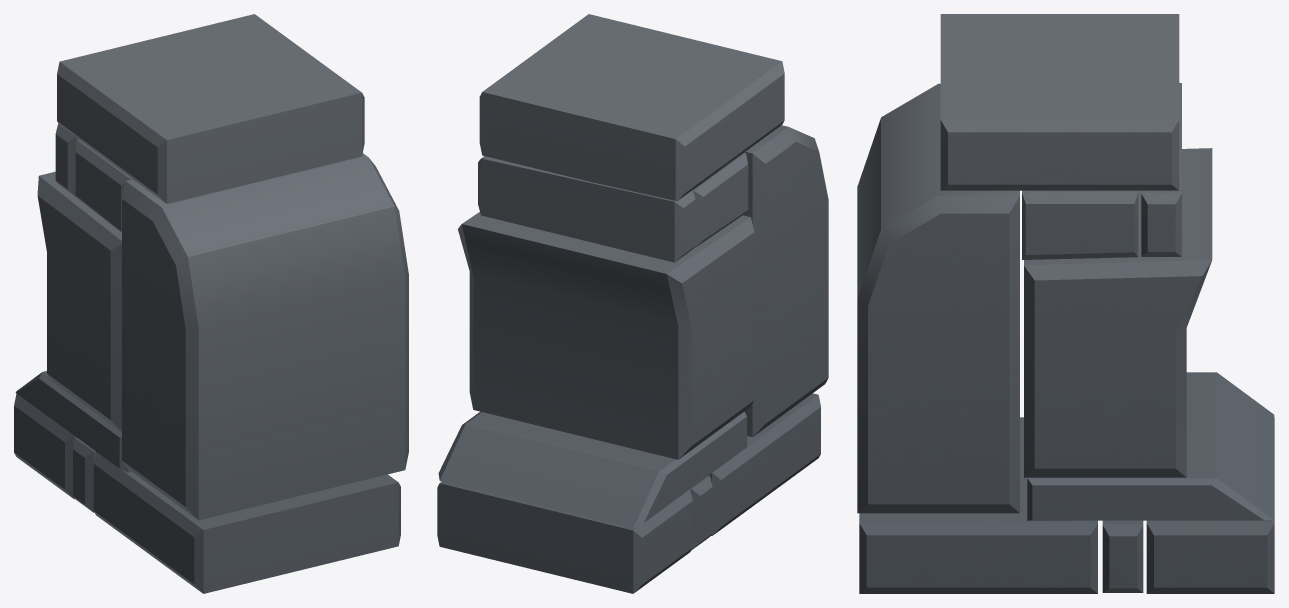
File: muro2.fbx
3 renders of one model, left to right at view 1: azimuth 30°, elevation 25°; view 2: azimuth 150°, elevation 25°; view 3: azimuth 270°, elevation 25°, orthographic. The views are drawn at different scales.
Visible parts, largest first — view 1: muro4; view 2: muro4; view 3: muro4.
Boxes of the visible parts, <box> form: muro4: <box>14,14,408,593</box>; muro4: <box>437,14,828,593</box>; muro4: <box>857,14,1274,593</box>.
Bounding box in the file's own units: 2412 × 4405 × 3514.
